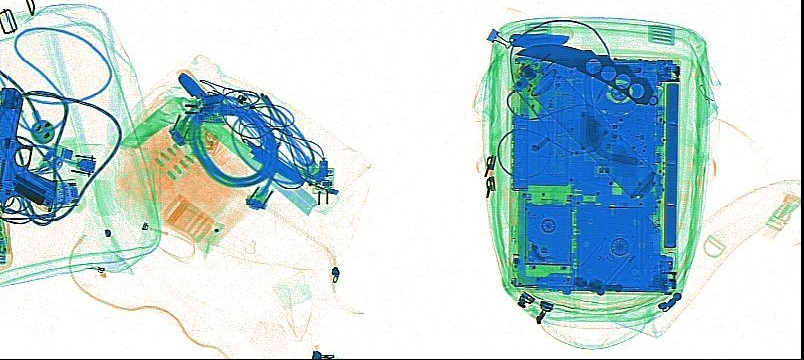knife: (514, 42, 658, 104), (220, 116, 304, 186), (175, 68, 205, 103), (508, 33, 570, 49)
pressure: (529, 68, 655, 198)
